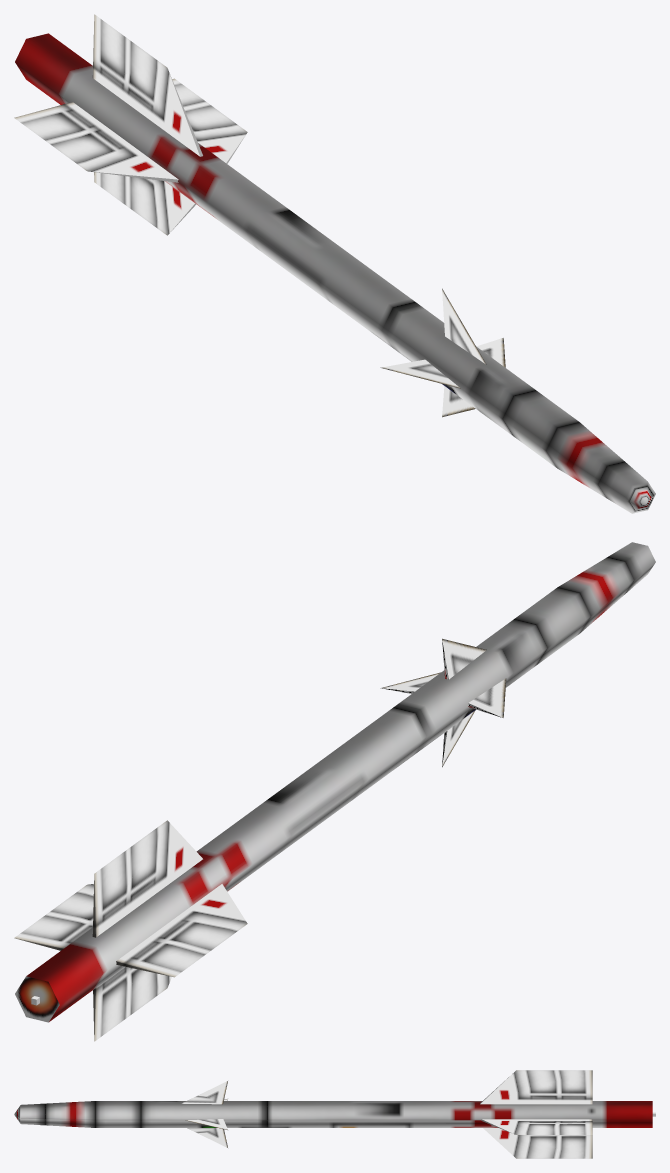
Rendered from mis10.obj.
3 renders of one model, top to bottom at view 1: azimuth 30°, elevation 25°; view 2: azimuth 150°, elevation 25°; view 3: azimuth 270°, elevation 25°, orthographic. The views are drawn at different scales.
Visible parts, largest first — view 1: frm-body, frm-rear_fin5, frm-rear_fin6, frm-rear_fin7, frm-rear_fin5_1, frm-frontfin4, frm-frontfin5; view 2: frm-body, frm-rear_fin5, frm-rear_fin6, frm-rear_fin7, frm-rear_fin5_1, frm-frontfin4, frm-frontfin5; view 3: frm-body, frm-rear_fin5, frm-rear_fin7, frm-rear_fin5_1, frm-frontfin4, frm-frontfin7, frm-frontfin4_1.
Boxes of the visible parts, x1=… form: frm-body: x1=15, y1=33, x2=655, y2=513; frm-rear_fin5: x1=92, y1=14, x2=202, y2=156; frm-rear_fin6: x1=14, y1=102, x2=178, y2=182; frm-rear_fin7: x1=94, y1=172, x2=196, y2=235; frm-rear_fin5_1: x1=172, y1=78, x2=247, y2=163; frm-frontfin4: x1=442, y1=288, x2=486, y2=364; frm-frontfin5: x1=380, y1=359, x2=460, y2=388; frm-body: x1=15, y1=542, x2=655, y2=1022; frm-rear_fin5: x1=92, y1=820, x2=202, y2=937; frm-rear_fin6: x1=116, y1=884, x2=247, y2=977; frm-rear_fin7: x1=93, y1=966, x2=171, y2=1041; frm-rear_fin5_1: x1=14, y1=884, x2=93, y2=950; frm-frontfin4: x1=442, y1=638, x2=486, y2=679; frm-frontfin5: x1=468, y1=678, x2=506, y2=717; frm-body: x1=14, y1=1101, x2=652, y2=1127; frm-rear_fin5: x1=480, y1=1070, x2=592, y2=1104; frm-rear_fin7: x1=483, y1=1128, x2=592, y2=1158; frm-rear_fin5_1: x1=481, y1=1119, x2=592, y2=1134; frm-frontfin4: x1=182, y1=1081, x2=227, y2=1104; frm-frontfin7: x1=187, y1=1128, x2=227, y2=1147; frm-frontfin4_1: x1=185, y1=1119, x2=227, y2=1129.
Size of the model in its own units: 1.73 by 1.73 by 11.41.
